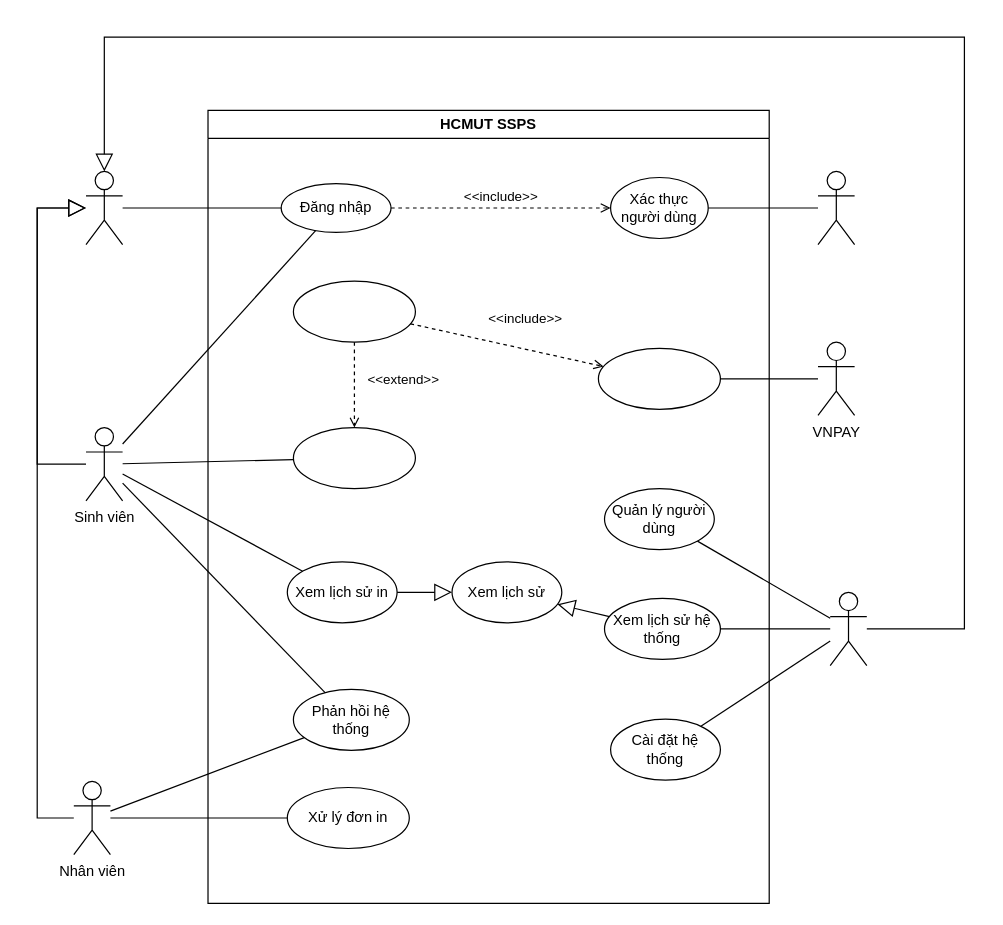
The diagram is 1003 pixels wide and 925 high, and some of its shapes have lost their labels. Each missing label, with the centre of its shape:
"Google Oauth" belongs at point 836,207.
"In tài liệu" belongs at point 353,457.
"Mua trang in" belongs at point 353,311.
"Người dùng" belongs at point 104,207.
"SPSO" belongs at point 848,628.
"Xử lý giao dịch" belongs at point 658,378.
